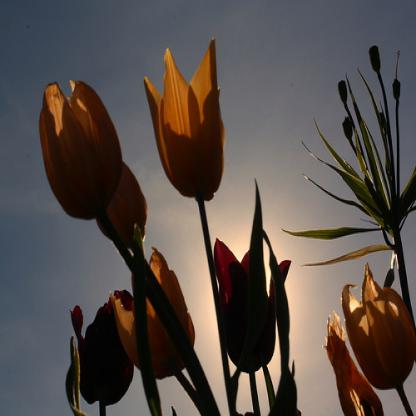TULIP: (31, 40, 409, 403)
